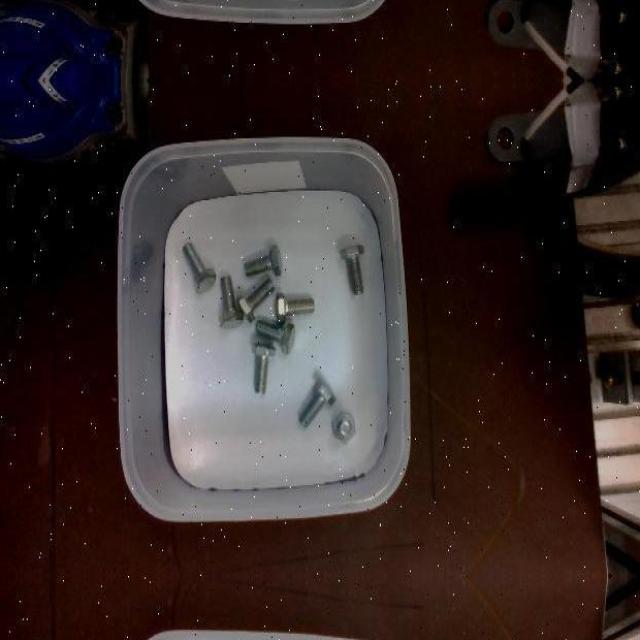screw: (298, 376, 336, 427), (182, 240, 216, 292), (238, 277, 276, 322), (255, 319, 295, 354), (340, 243, 366, 294), (220, 275, 245, 328), (276, 290, 314, 322), (246, 244, 283, 275), (253, 344, 276, 393), (331, 410, 355, 441)
